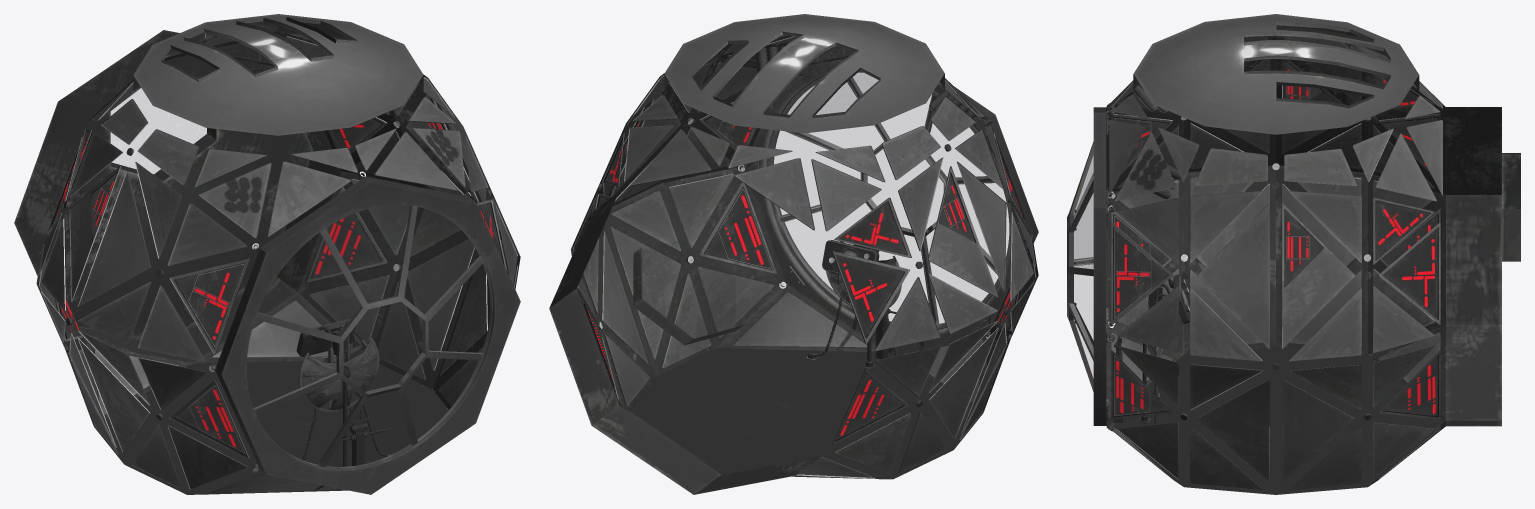
The model's file is cockpit-mobile.glb.
The picture shows the model from 3 angles, left to right: view 1: azimuth 30°, elevation 25°; view 2: azimuth 150°, elevation 25°; view 3: azimuth 270°, elevation 25°; orthographic projection. The views are drawn at different scales.
Parts seen in each view (by area): view 1: triangles, hull, window_front, hatch, canopy_brace, floor, triangles_lights, canopy_struts, detail_metal_painted_grey, window_top, window_back, detail_metal_painted_black (+2 smaller); view 2: triangles, hull, floor, hatch, triangles_lights, window_front, window_back, canopy_brace, window_top, canopy_struts, detail_metal_painted_black, canopy_struts_insets (+3 smaller); view 3: triangles, hull, hatch, triangles_lights, floor, canopy_brace, window_front, canopy_struts, window_top, detail_metal_painted_black, sensors, bolts_hull.
Part boxes in pixels (x1,y1,x2,y2): triangles: [39, 33, 518, 494]; hull: [14, 21, 520, 494]; window_front: [258, 205, 480, 467]; hatch: [133, 14, 423, 135]; canopy_brace: [215, 177, 520, 494]; floor: [94, 361, 448, 494]; triangles_lights: [51, 96, 504, 455]; canopy_struts: [253, 205, 492, 469]; detail_metal_painted_grey: [299, 337, 379, 412]; window_top: [165, 22, 328, 78]; window_back: [111, 89, 206, 173]; detail_metal_painted_black: [326, 330, 390, 466]; triangles: [573, 34, 1036, 478]; hull: [549, 35, 1038, 494]; floor: [629, 348, 982, 479]; hatch: [664, 14, 944, 133]; triangles_lights: [584, 103, 1024, 441]; window_front: [773, 73, 1008, 322]; window_back: [634, 239, 734, 344]; canopy_brace: [744, 58, 1038, 352]; window_top: [716, 35, 877, 114]; canopy_struts: [767, 70, 1011, 328]; detail_metal_painted_black: [823, 241, 896, 369]; canopy_struts_insets: [780, 80, 995, 322]; triangles: [1109, 36, 1442, 489]; hull: [1106, 25, 1520, 487]; hatch: [1133, 14, 1418, 134]; triangles_lights: [1113, 60, 1438, 417]; floor: [1106, 347, 1445, 494]; canopy_brace: [1093, 107, 1106, 425]; window_front: [1069, 147, 1093, 374]; canopy_struts: [1067, 141, 1093, 391]; window_top: [1245, 26, 1388, 85]; detail_metal_painted_black: [1114, 278, 1189, 423]; sensors: [1132, 83, 1180, 199]; bolts_hull: [1180, 116, 1371, 420].
Bounding box in the file's own units: 2.56 × 2.2 × 2.42.
Materials: 22 (22 with a texture image).
